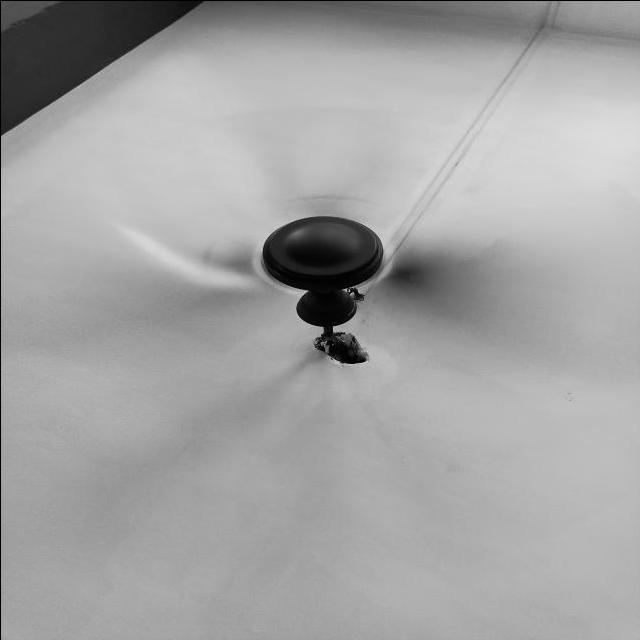fan: (0, 90, 622, 638)
light: (258, 215, 383, 365)
